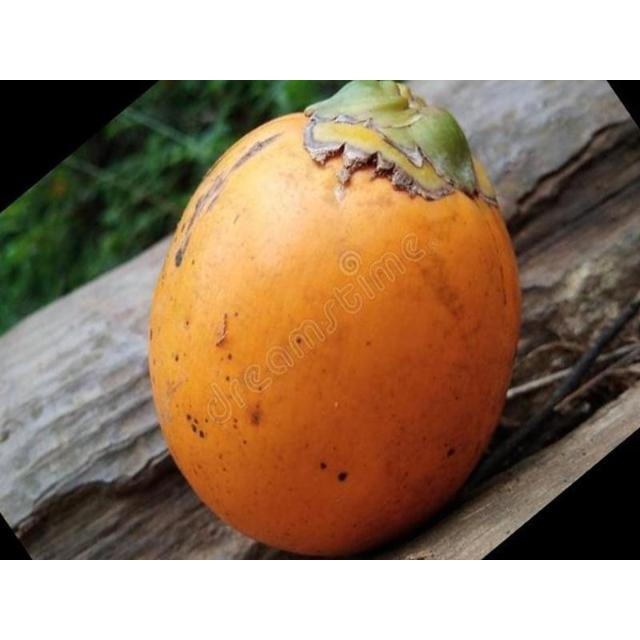good: (146, 80, 523, 559)
